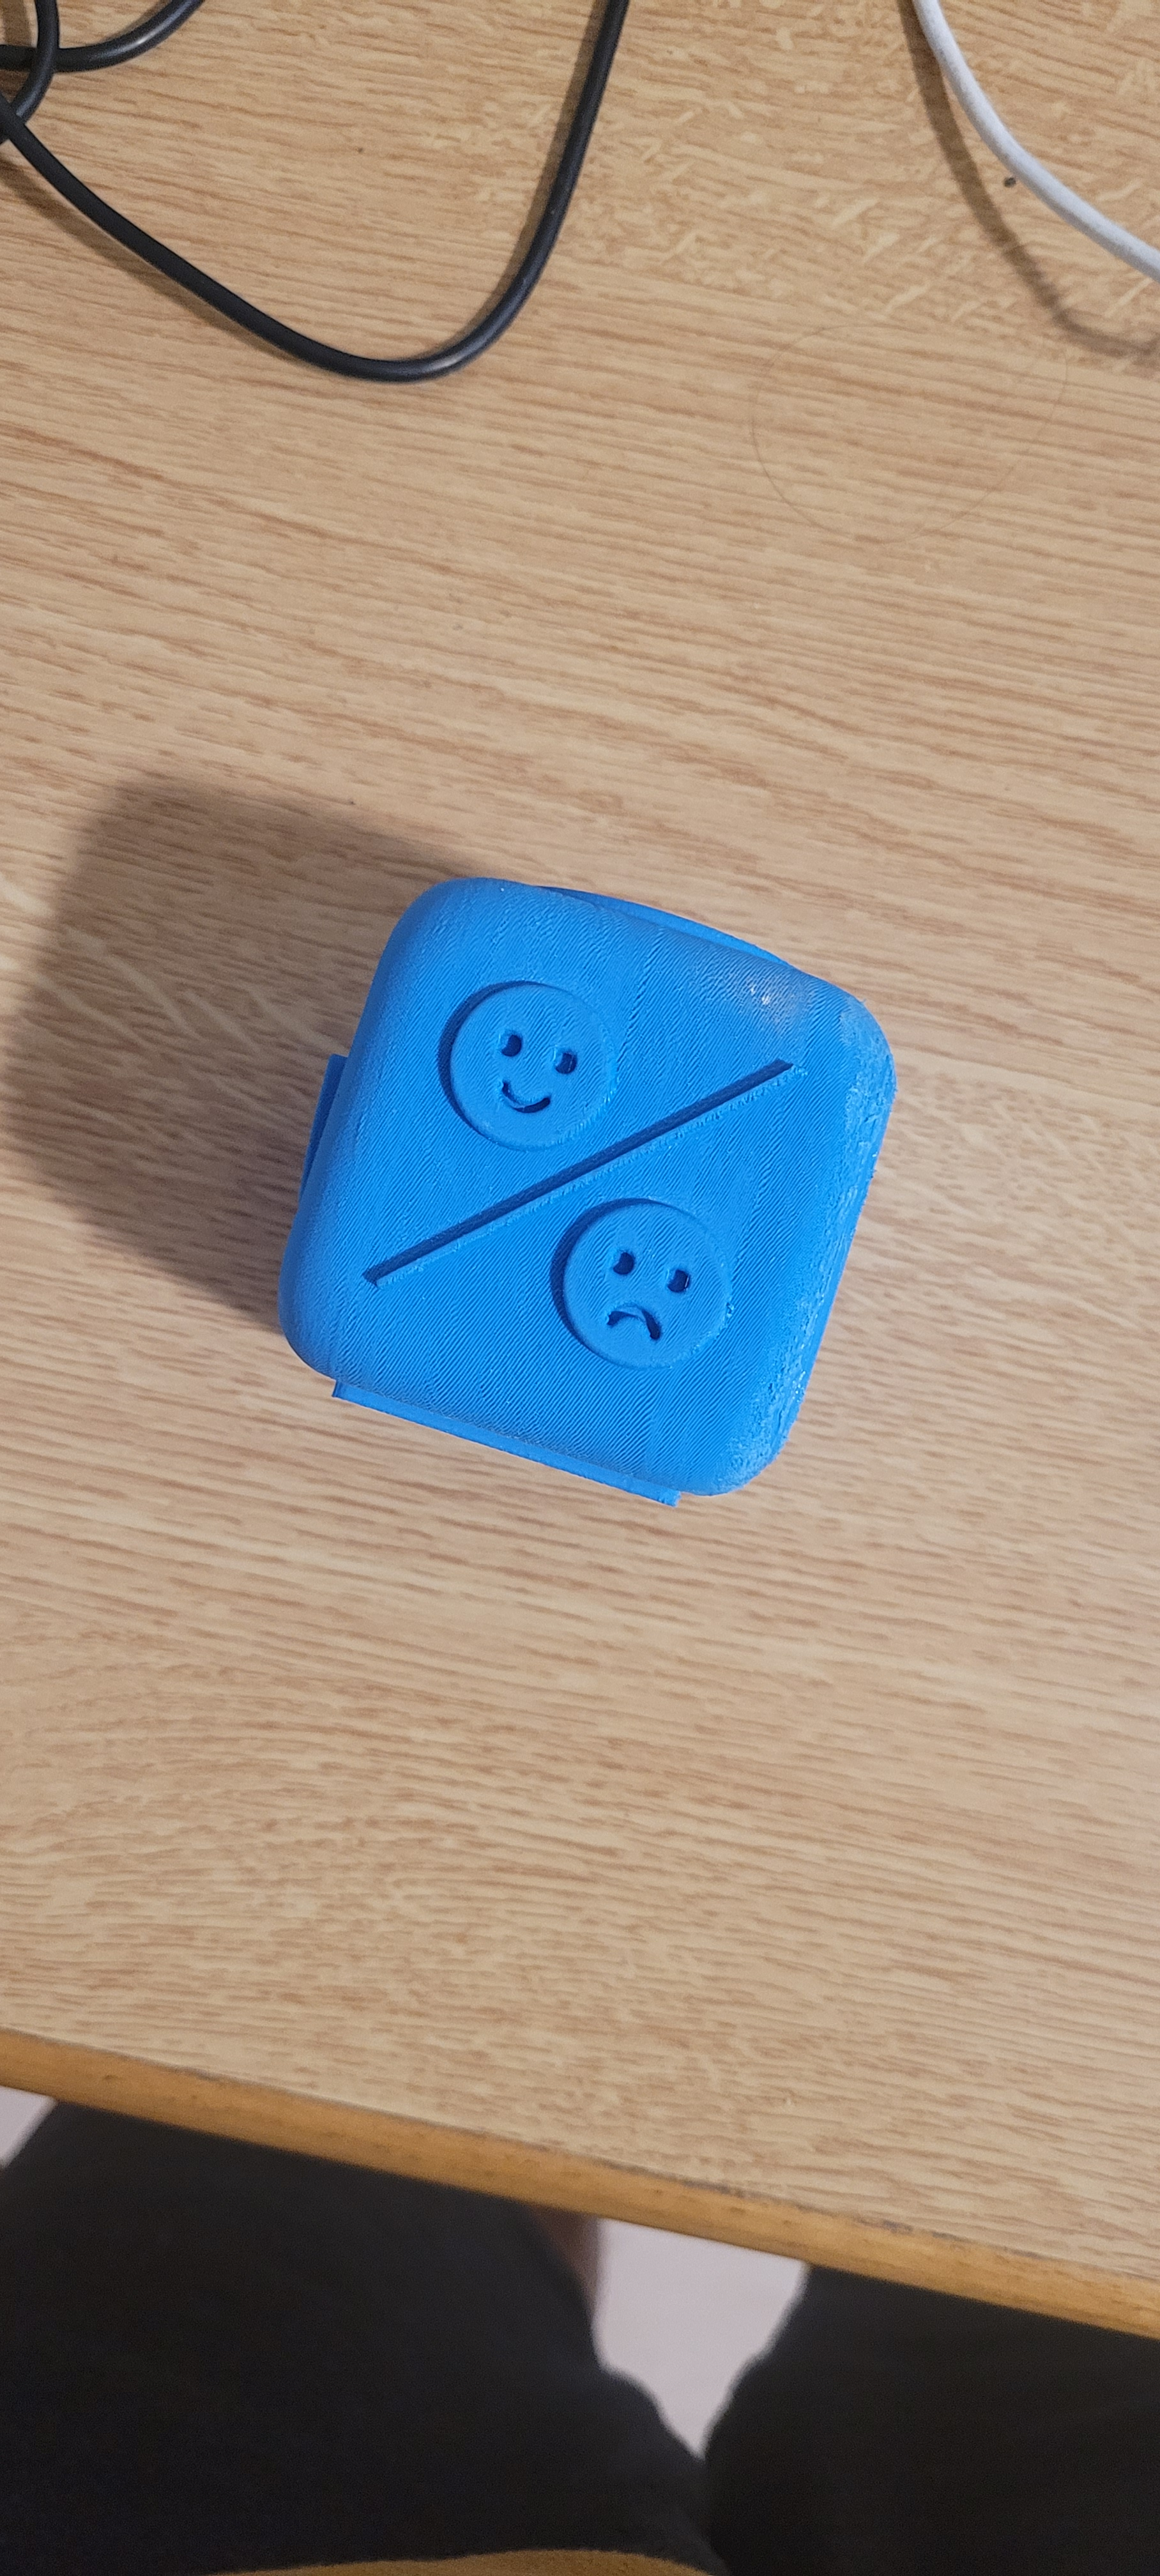Like/Dislike: (347, 818, 836, 1444)
